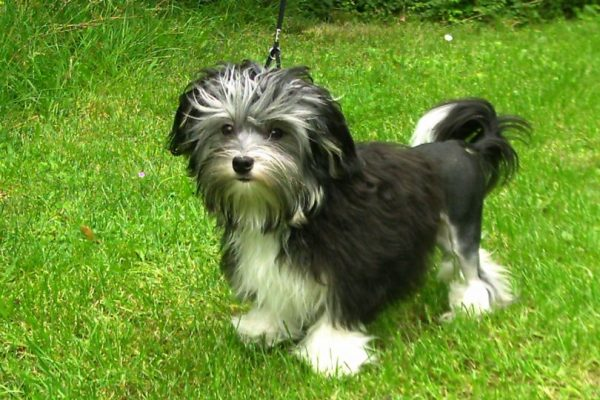dog: (145, 47, 530, 378)
